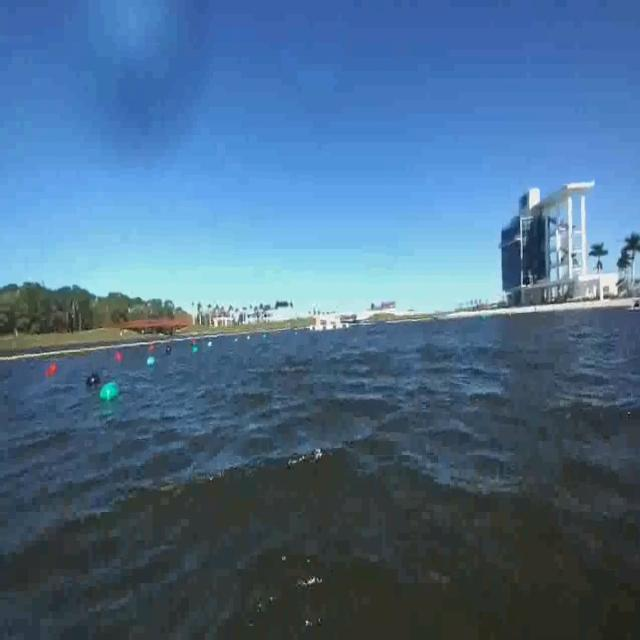black-buoy: (87, 375, 101, 389)
green-buoy: (98, 381, 118, 401), (148, 355, 156, 368)
red-buoy: (47, 364, 56, 376)
